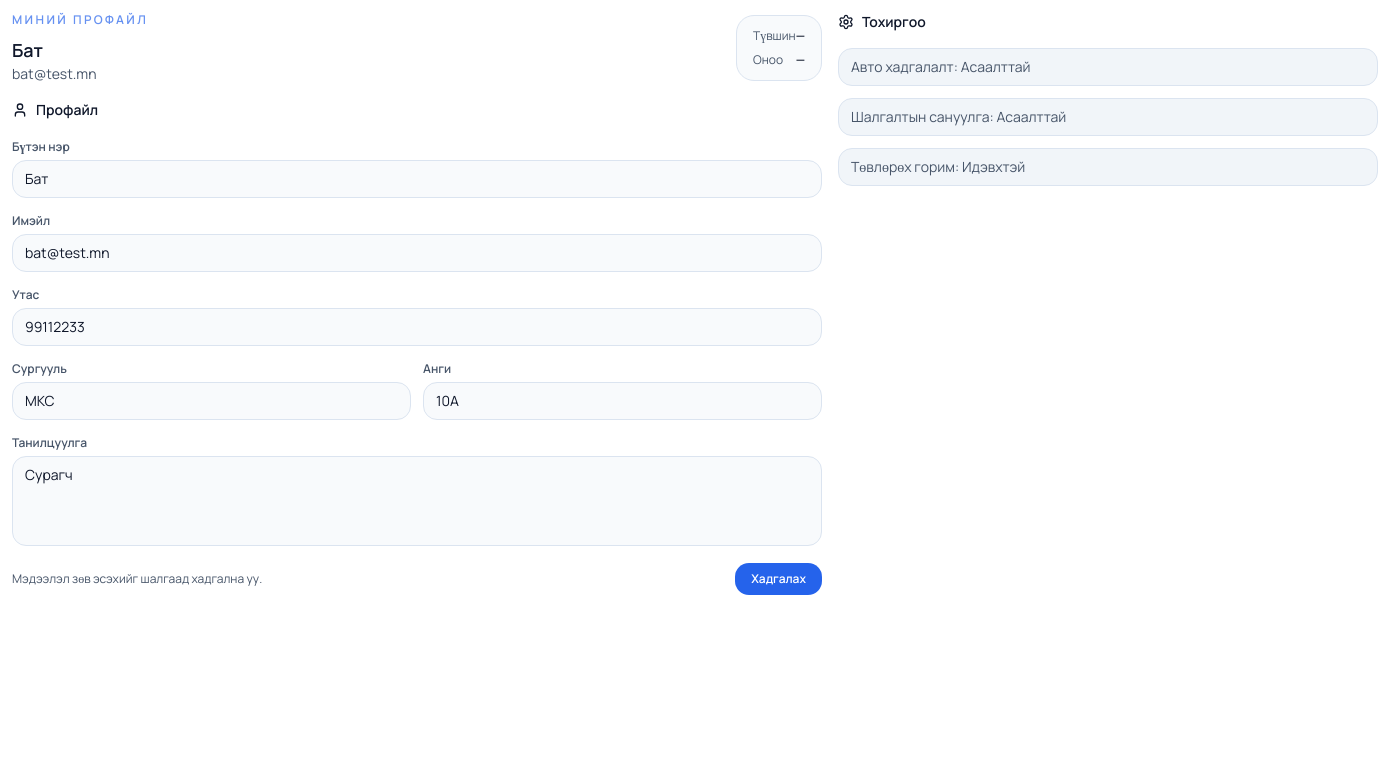
Test: StudentSettingsTab › shows error on save failure
expect the field showing "bat@test.mn" below "Имэйл" is shown: met, box [12,234,822,272]
Click the button "Хадгалах": x=779, y=579 [735,563,822,595]
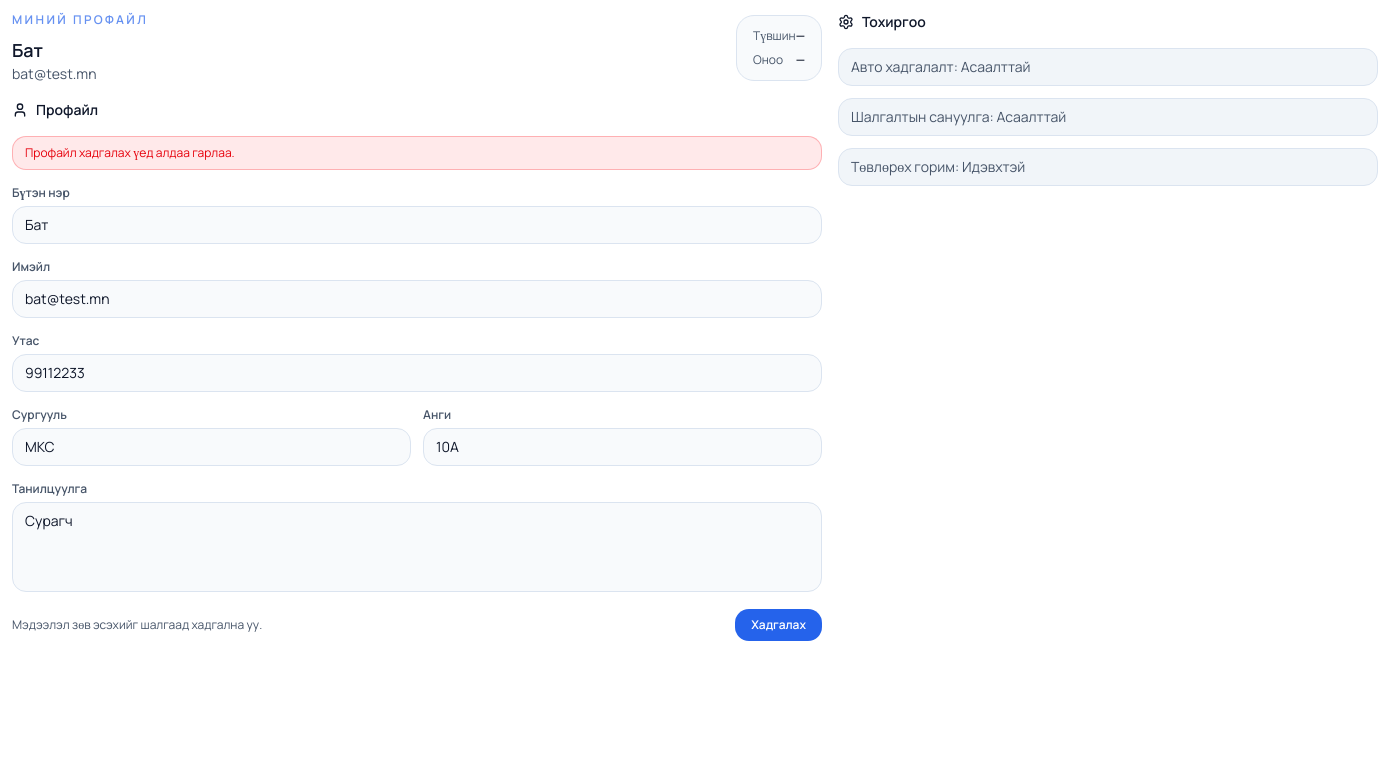
expect the text "Профайл хадгалах үед алдаа гарлаа." is shown: met, box [12,136,822,170]
